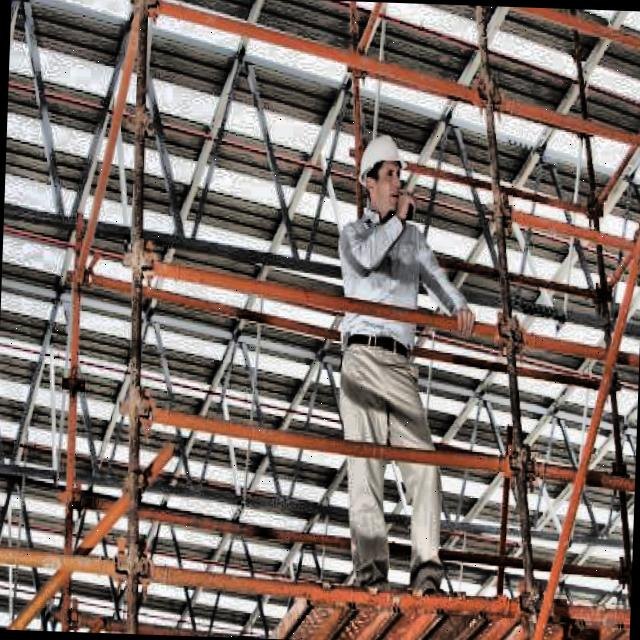helmet: (354, 128, 411, 218)
